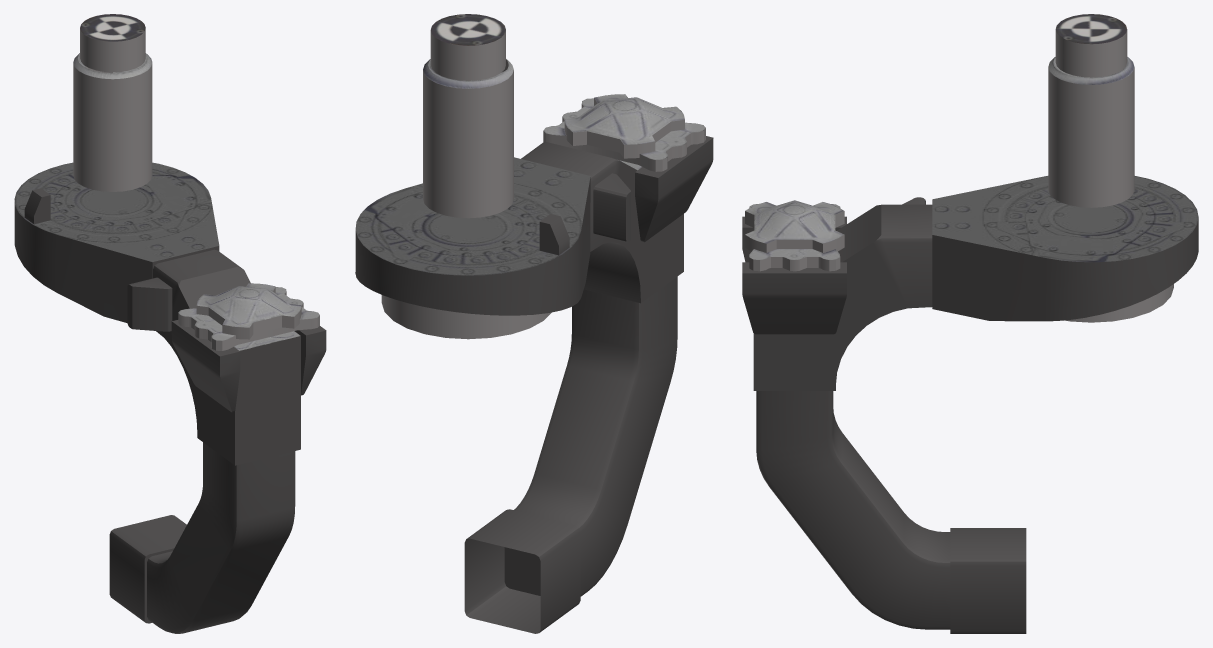
The model's file is amort_left_back.glb.
3 views of the same model, side by side, from view 1: azimuth 30°, elevation 25°; view 2: azimuth 150°, elevation 25°; view 3: azimuth 270°, elevation 25° (orthographic). The views are drawn at different scales.
Parts seen in each view (by area): view 1: suspension.002; view 2: suspension.002; view 3: suspension.002.
Part boxes in pixels (x1,y1,x2,y2): suspension.002: (14, 14, 326, 633); suspension.002: (355, 14, 713, 633); suspension.002: (742, 14, 1198, 633).
Size of the model in its own units: 0.2085 by 0.6335 by 0.4444.
Materials: 5 (3 with a texture image).
